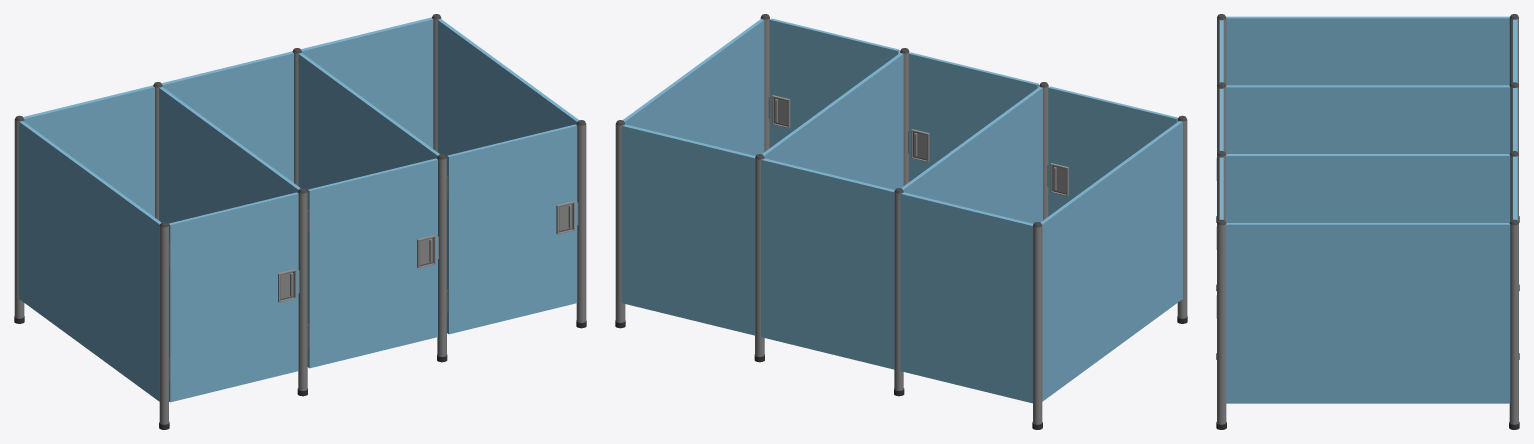
The model's file is Multiple Bathroom Stalls Blue.fbx.
3 views of the same model, side by side, from view 1: azimuth 30°, elevation 25°; view 2: azimuth 150°, elevation 25°; view 3: azimuth 270°, elevation 25° (orthographic).
Visible parts, largest first — view 1: Multiple Bathroom Stalls Blue; view 2: Multiple Bathroom Stalls Blue; view 3: Multiple Bathroom Stalls Blue.
Boxes of the visible parts, bbox=[...] form: Multiple Bathroom Stalls Blue: bbox=[14, 14, 586, 429]; Multiple Bathroom Stalls Blue: bbox=[615, 14, 1187, 429]; Multiple Bathroom Stalls Blue: bbox=[1216, 14, 1519, 429].
Bounding box in the file's own units: 468 × 215 × 286.
1 material, 1 textured.
